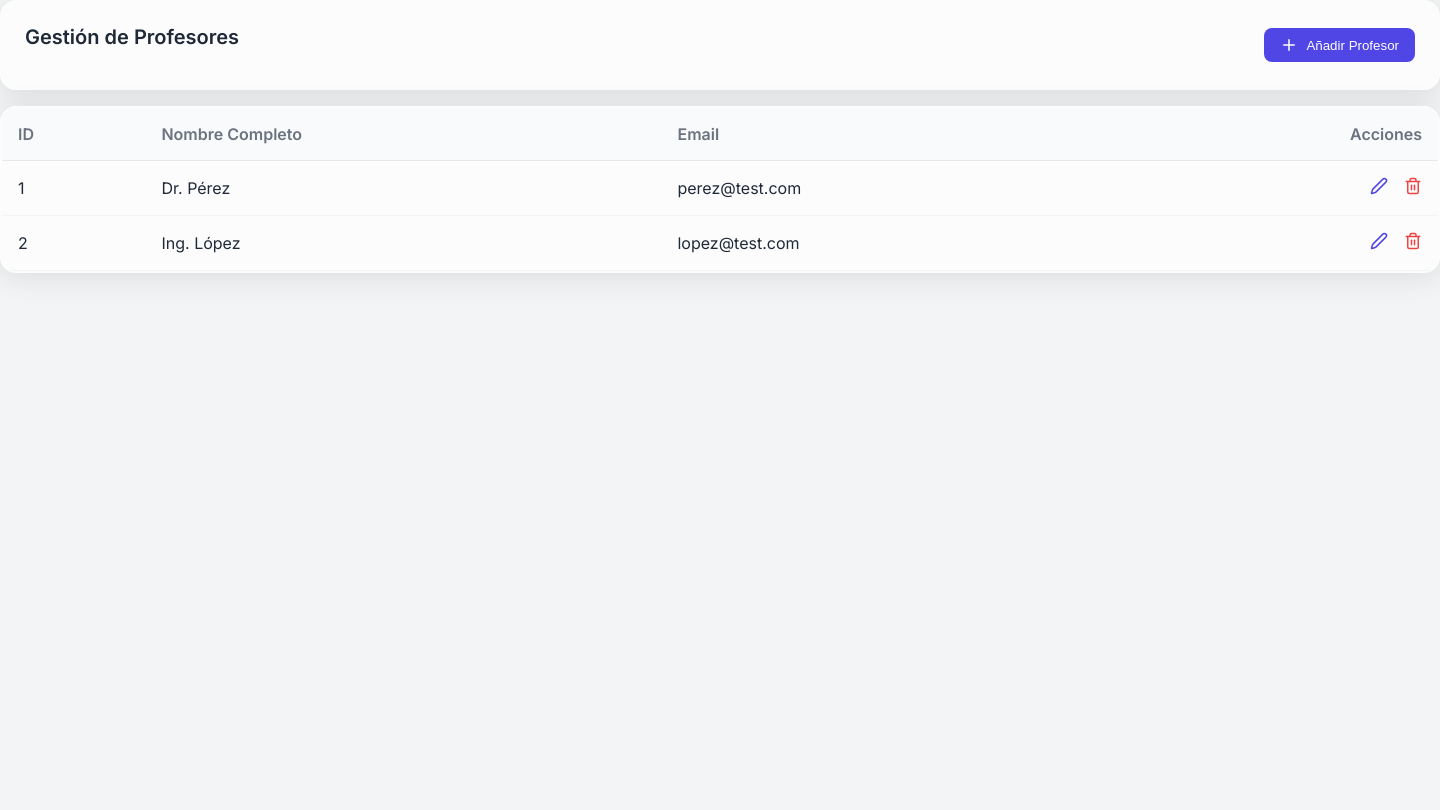
it: CrudView › abre modal al hacer click en Añadir
Click the button "Añadir Profesor".
click(1340, 45)  # box [1264,28,1415,62]
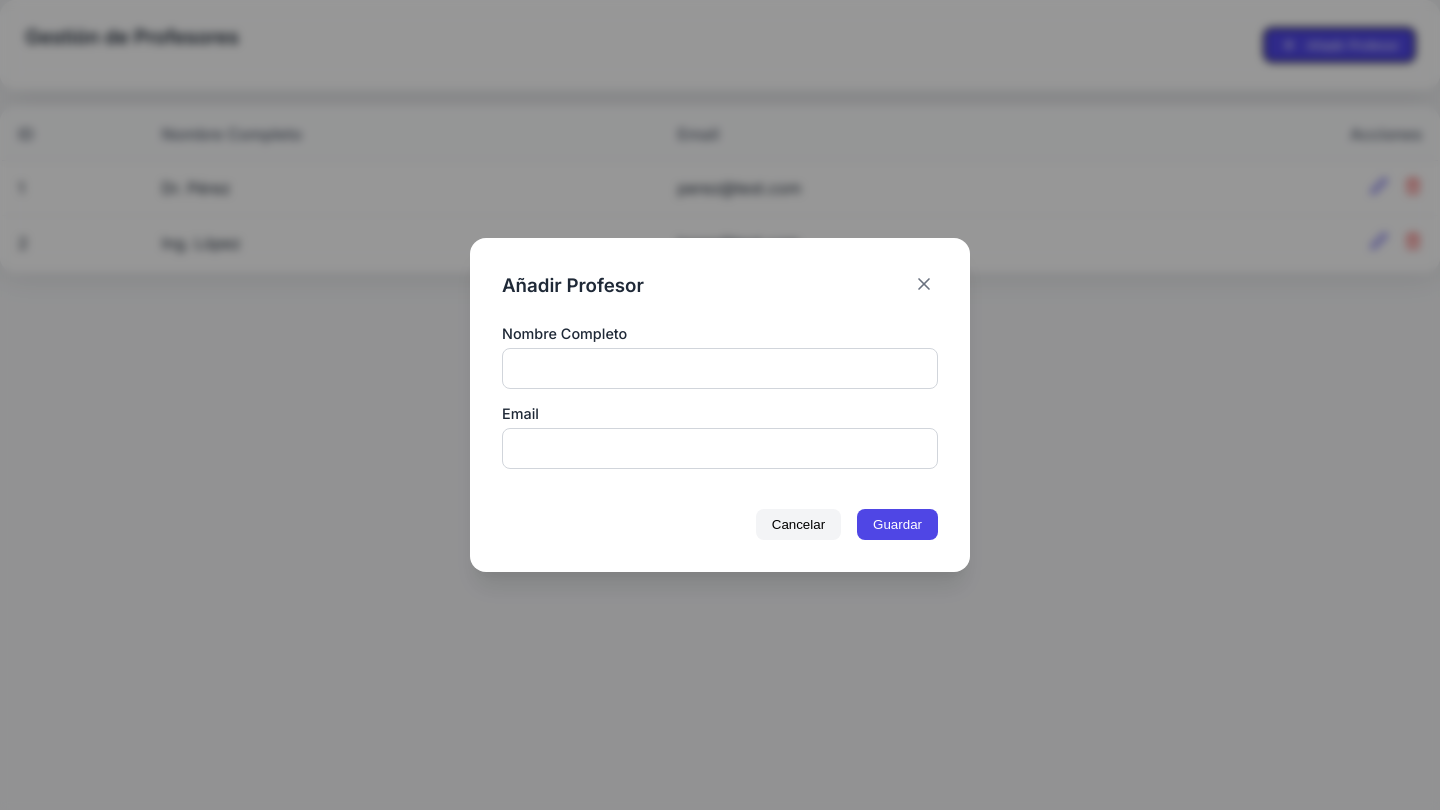
Check: the number of buttons "Añadir Profesor" is 2, box [1264,28,1415,62]; [502,274,644,297]
Check: the field labelled "Nombre Completo" is shown, box [502,348,938,389]
Check: the field labelled "Email" is shown, box [502,428,938,469]
